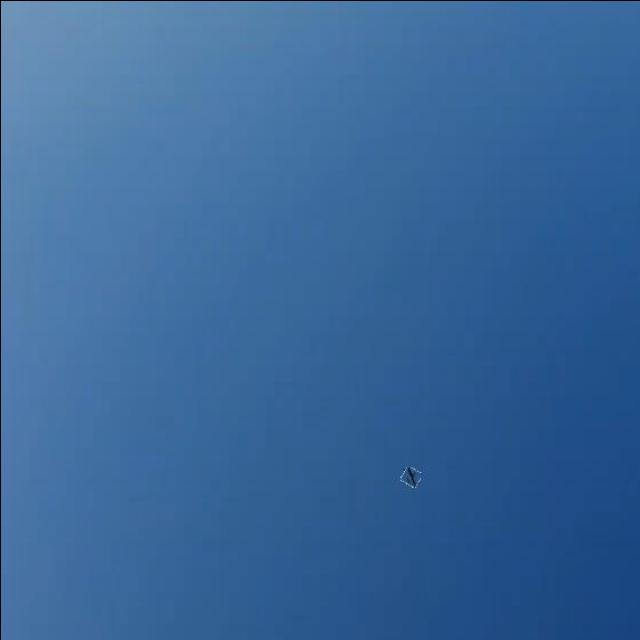plane: (396, 465, 421, 490)
